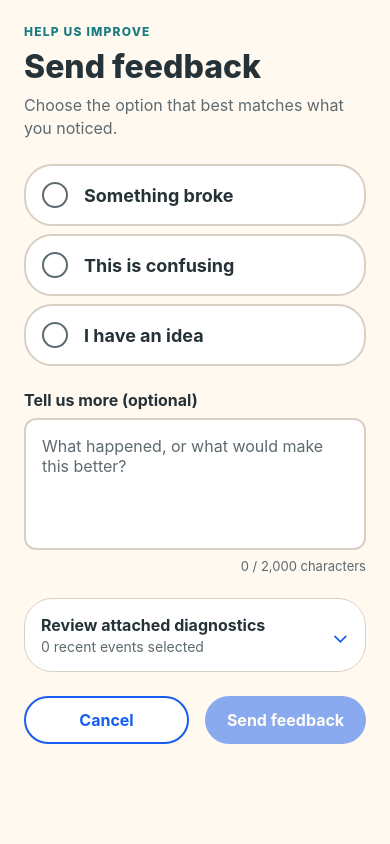
Test: send parent feedback › requires one of the three exact accessible choices and limits the optional description to 2,000 characters
This screenshot has width=390, height=844.
Expected: the button "Send feedback" is disabled, x1=205 y1=696 x2=366 y2=744
Click the radio button labelled "I have an idea".
click(195, 335)  # box x1=24 y1=304 x2=366 y2=366
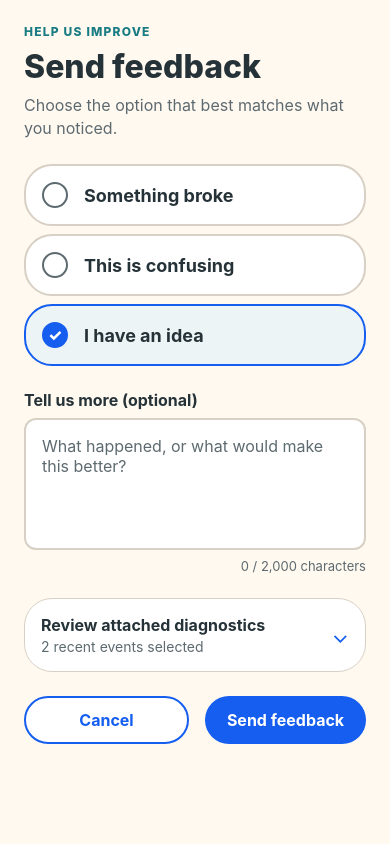
Result: the button "Send feedback" is enabled at x1=205 y1=696 x2=366 y2=744
